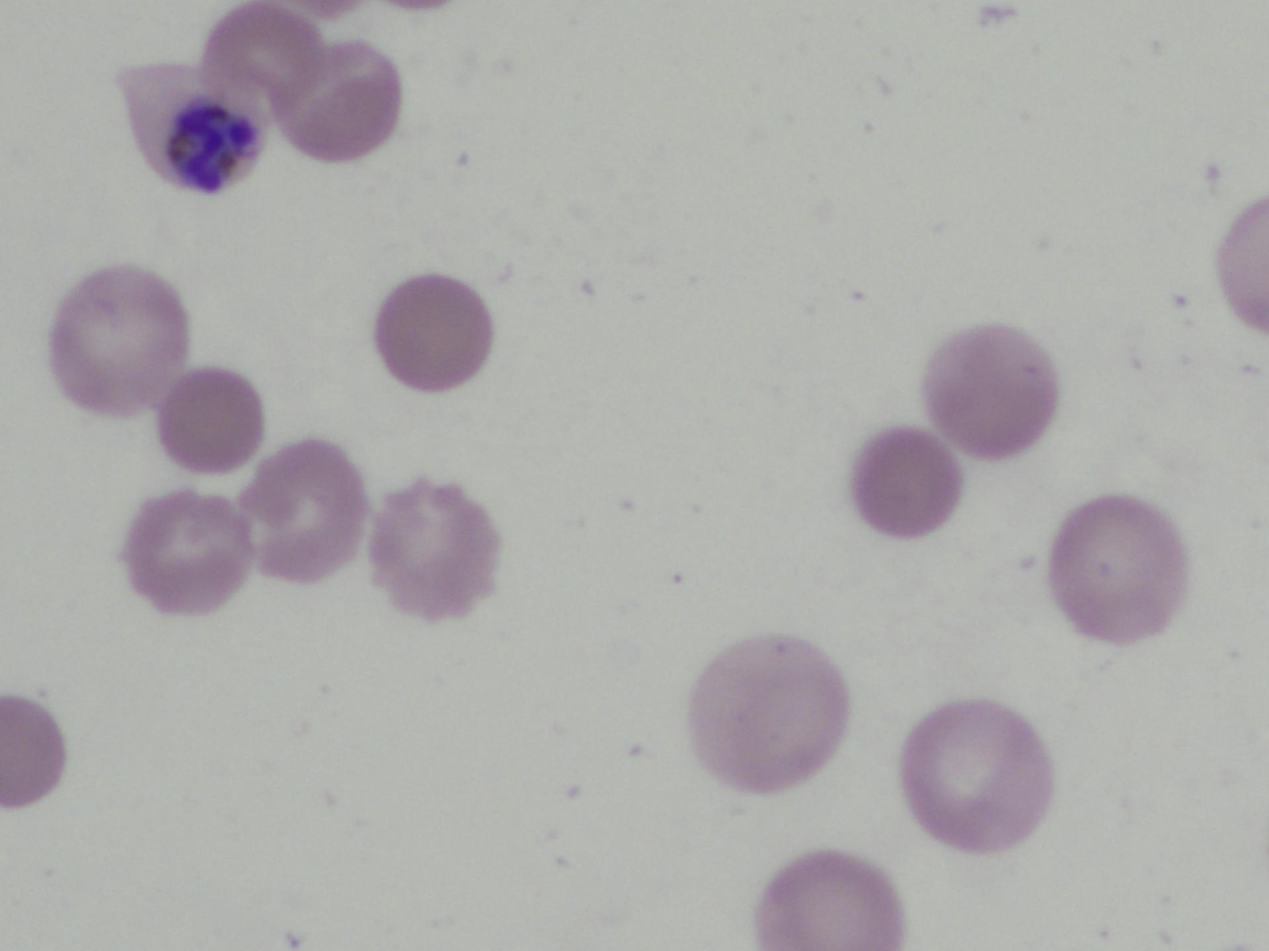Infected: (119, 58, 276, 192)
Uninfected: (692, 633, 849, 790), (905, 701, 1058, 849), (48, 265, 191, 418), (1051, 490, 1188, 647), (921, 325, 1062, 459), (370, 481, 499, 614), (247, 437, 363, 584), (119, 488, 253, 615), (753, 849, 902, 951), (370, 269, 493, 392), (203, 1, 325, 118), (275, 47, 398, 161), (850, 419, 969, 534), (157, 366, 267, 467), (0, 695, 68, 811)
